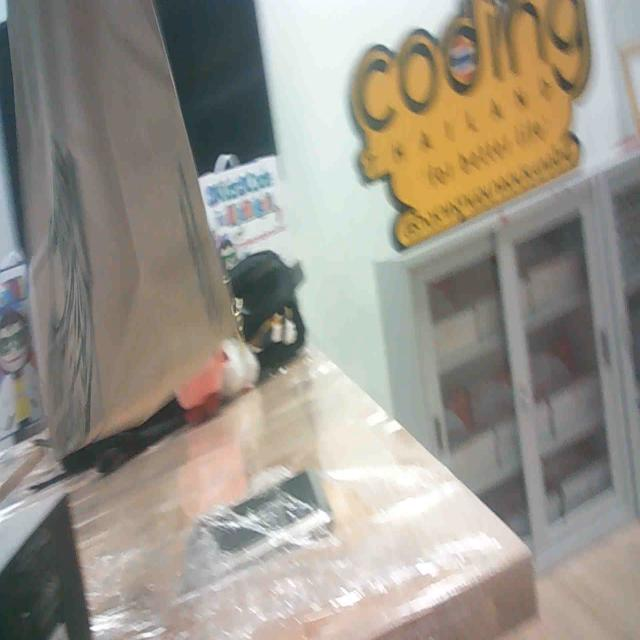bag: (0, 7, 237, 410)
